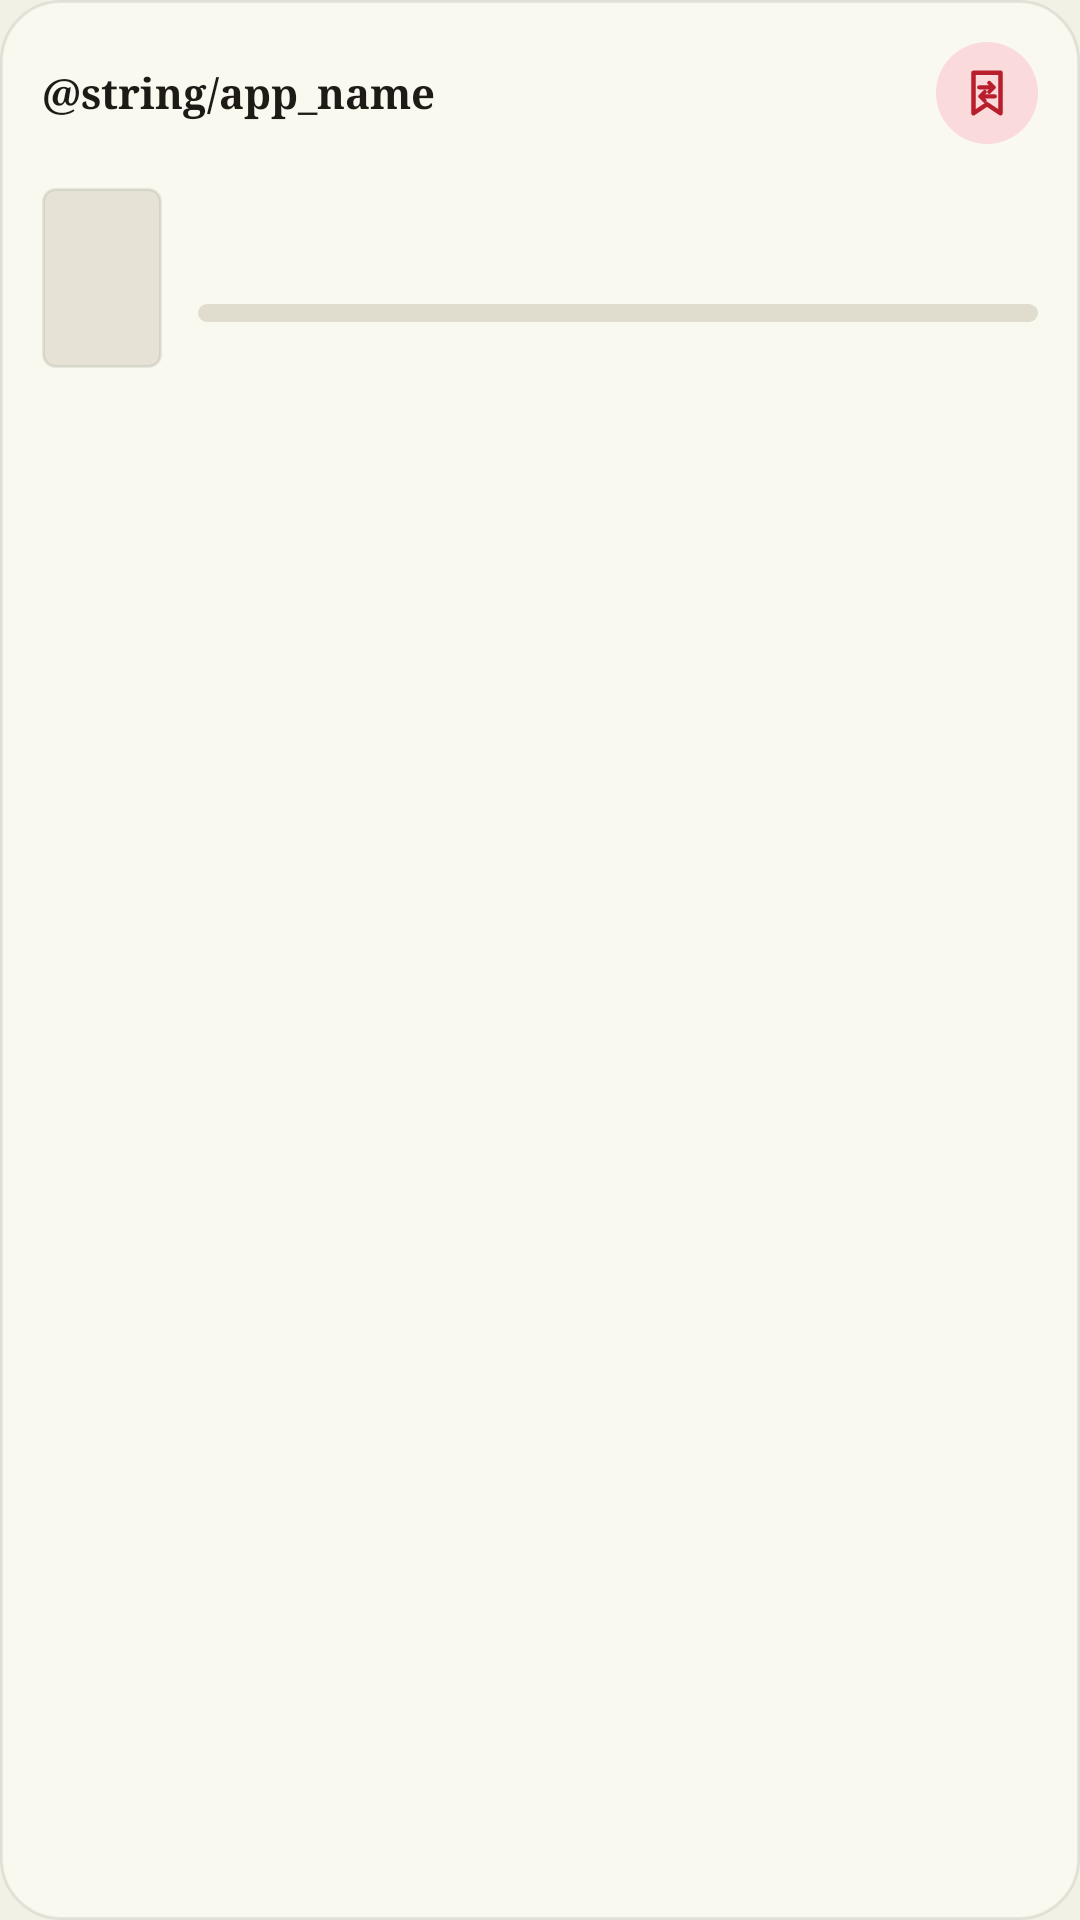

Screen size 1080w x 1920h. Icon name, then its center in pixels as (x=x, y=y):
Sync now: (x=987, y=93)
